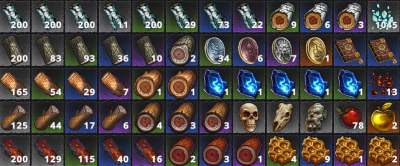ash heartwood: (166, 35, 197, 66)
ash log: (66, 34, 96, 64), (99, 34, 129, 64), (33, 34, 62, 65), (134, 34, 163, 65), (1, 33, 29, 64)
birch heartwood: (300, 1, 331, 31), (267, 1, 297, 31), (335, 1, 364, 31)
birch log: (65, 1, 97, 31), (200, 1, 231, 31), (233, 1, 264, 31), (33, 1, 63, 31), (100, 1, 130, 31), (133, 1, 163, 31), (166, 1, 196, 30), (1, 1, 29, 31)
chaos ember: (367, 68, 399, 97)
ethereal dust: (368, 1, 399, 31)
oak heartwood: (165, 69, 197, 98), (133, 68, 163, 98)
oak log: (31, 68, 64, 98), (99, 68, 130, 98), (66, 68, 96, 98), (1, 68, 29, 98)
spruce heartwood: (165, 100, 197, 133), (199, 101, 231, 132), (133, 101, 163, 132)
spruce log: (32, 101, 63, 133), (66, 101, 96, 132), (100, 102, 130, 132), (1, 101, 30, 132)
yew heartwood: (199, 133, 232, 165), (167, 135, 197, 166), (234, 136, 264, 165)
yew log: (32, 135, 63, 166), (66, 135, 97, 166), (99, 135, 130, 166), (133, 135, 164, 166), (1, 135, 29, 166)
